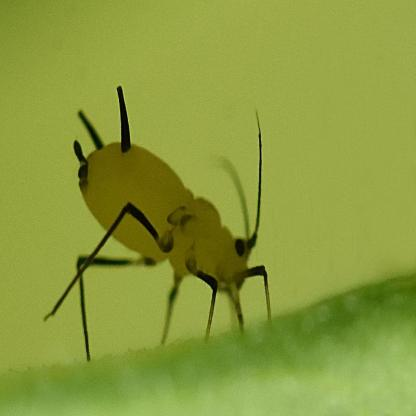aphid: (50, 90, 280, 334)
